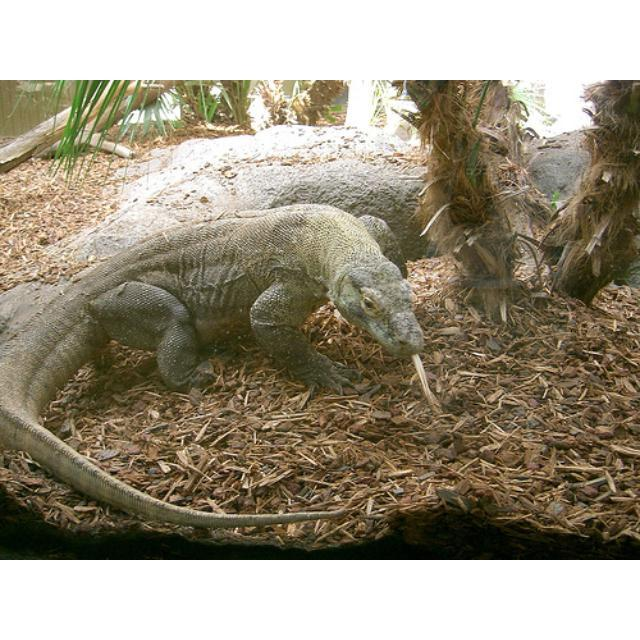KomodoDragon: (2, 201, 437, 522)
